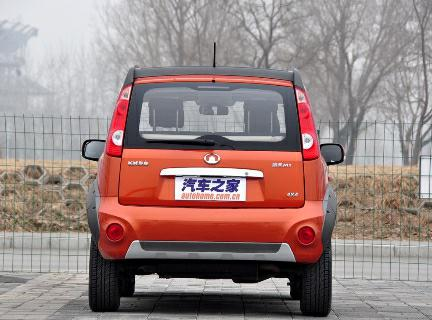长城-M1: (78, 63, 349, 317)
